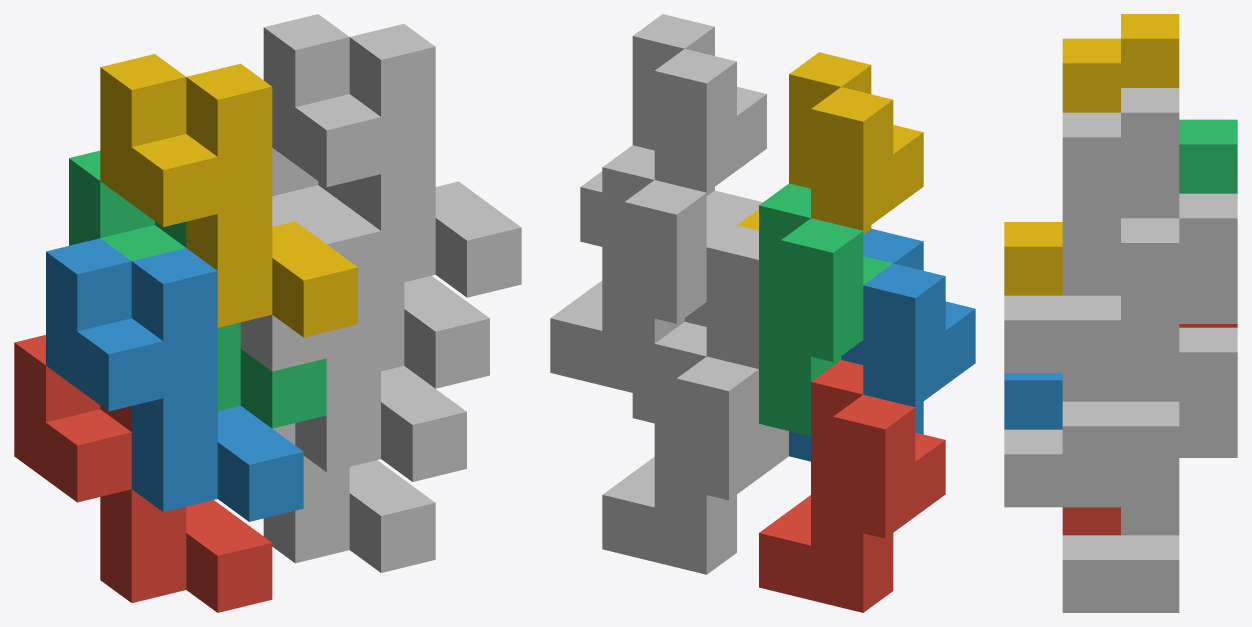
The model's file is tiling.obj.
3 renders of one model, left to right at view 1: azimuth 30°, elevation 25°; view 2: azimuth 150°, elevation 25°; view 3: azimuth 270°, elevation 25°, orthographic. The views are drawn at different scales.
Parts seen in each view (by area): view 1: copy_1_domain_2, copy_1_domain_4, copy_1_domain_8, copy_1_domain_1, copy_1_domain_6, copy_1_domain_5, copy_1_domain_3, copy_1_domain_7; view 2: copy_1_domain_1, copy_1_domain_5, copy_1_domain_7, copy_1_domain_3, copy_1_domain_8, copy_1_domain_4, copy_1_domain_2, copy_1_domain_6; view 3: copy_1_domain_8, copy_1_domain_7, copy_1_domain_5, copy_1_domain_4, copy_1_domain_6, copy_1_domain_3, copy_1_domain_2, copy_1_domain_1.
Part boxes in pixels (bbox=[...]): copy_1_domain_2: bbox=[46, 238, 303, 521]; copy_1_domain_4: bbox=[100, 54, 357, 337]; copy_1_domain_8: bbox=[263, 14, 521, 297]; copy_1_domain_1: bbox=[14, 335, 272, 612]; copy_1_domain_6: bbox=[240, 205, 466, 481]; copy_1_domain_5: bbox=[263, 423, 435, 572]; copy_1_domain_3: bbox=[69, 150, 326, 428]; copy_1_domain_7: bbox=[272, 148, 489, 388]; copy_1_domain_1: bbox=[759, 360, 945, 612]; copy_1_domain_5: bbox=[602, 322, 788, 574]; copy_1_domain_7: bbox=[550, 145, 736, 398]; copy_1_domain_3: bbox=[759, 183, 892, 436]; copy_1_domain_8: bbox=[580, 14, 766, 246]; copy_1_domain_4: bbox=[737, 52, 923, 234]; copy_1_domain_2: bbox=[789, 228, 975, 461]; copy_1_domain_6: bbox=[632, 190, 762, 423]; copy_1_domain_8: bbox=[1004, 88, 1179, 373]; copy_1_domain_7: bbox=[1062, 193, 1237, 478]; copy_1_domain_5: bbox=[1062, 327, 1237, 612]; copy_1_domain_4: bbox=[1004, 14, 1179, 295]; copy_1_domain_6: bbox=[1004, 373, 1120, 507]; copy_1_domain_3: bbox=[1179, 119, 1237, 193]; copy_1_domain_2: bbox=[1004, 373, 1062, 429]; copy_1_domain_1: bbox=[1062, 324, 1237, 535].
Size of the model in its own units: 7 by 9 by 4.
